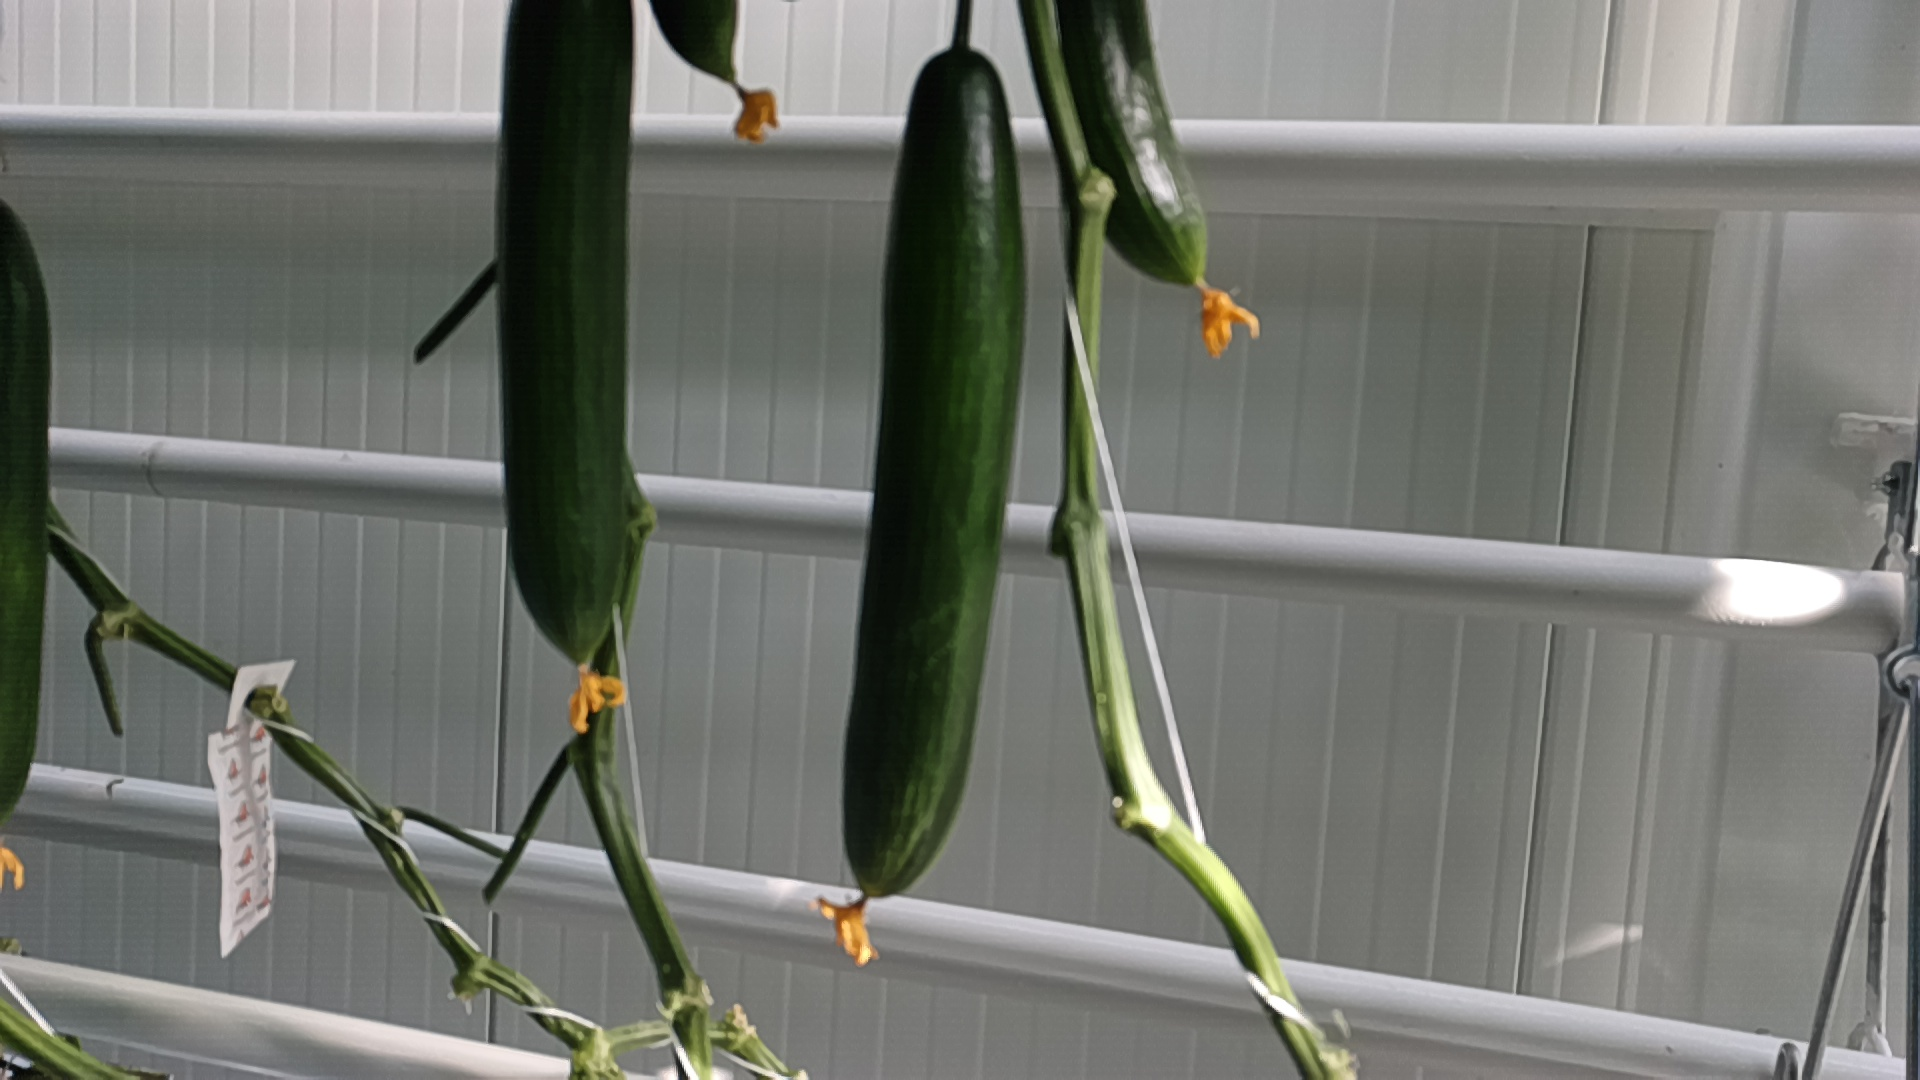gurka: (828, 36, 1040, 928)
